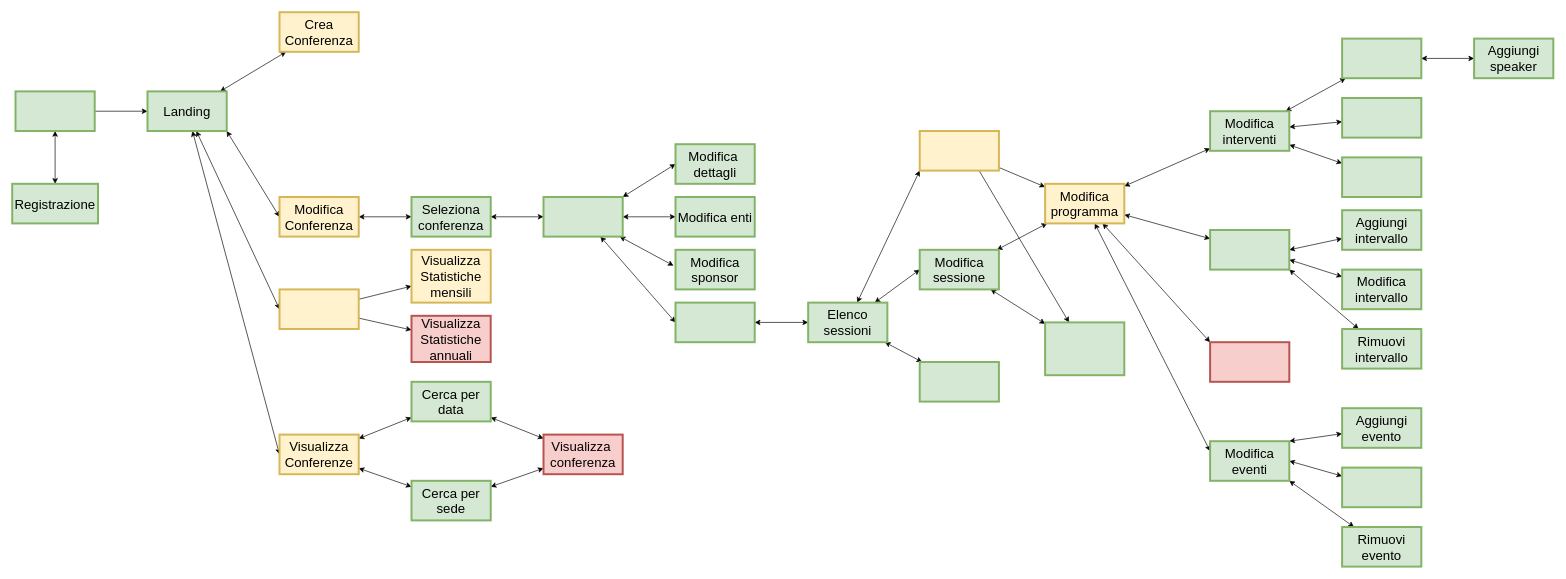
Some shapes in this 1566 by 579 pixel diagram are drawn without their labels. The box of each missing label's shape, as (x1, y1, x2, y2) in pixels:
Aggiungi intervento: (1341, 37, 1422, 79)
Aggiungi sessione: (918, 130, 1000, 171)
Login: (14, 90, 95, 132)
Modifica dettagli sessione: (1044, 321, 1125, 376)
Modifica evento: (1341, 466, 1422, 508)
Modifica intervalli: (1209, 229, 1290, 270)
Modifica intervento: (1341, 97, 1422, 138)
Modifica keynote: (1209, 341, 1290, 382)
Modifica sessioni: (674, 301, 755, 343)
Rimuovi intervento: (1341, 156, 1422, 198)
Rimuovi sessione: (918, 361, 1000, 402)
Sommario conferenza: (542, 196, 623, 237)
Visualizza Statistiche: (278, 288, 359, 330)
